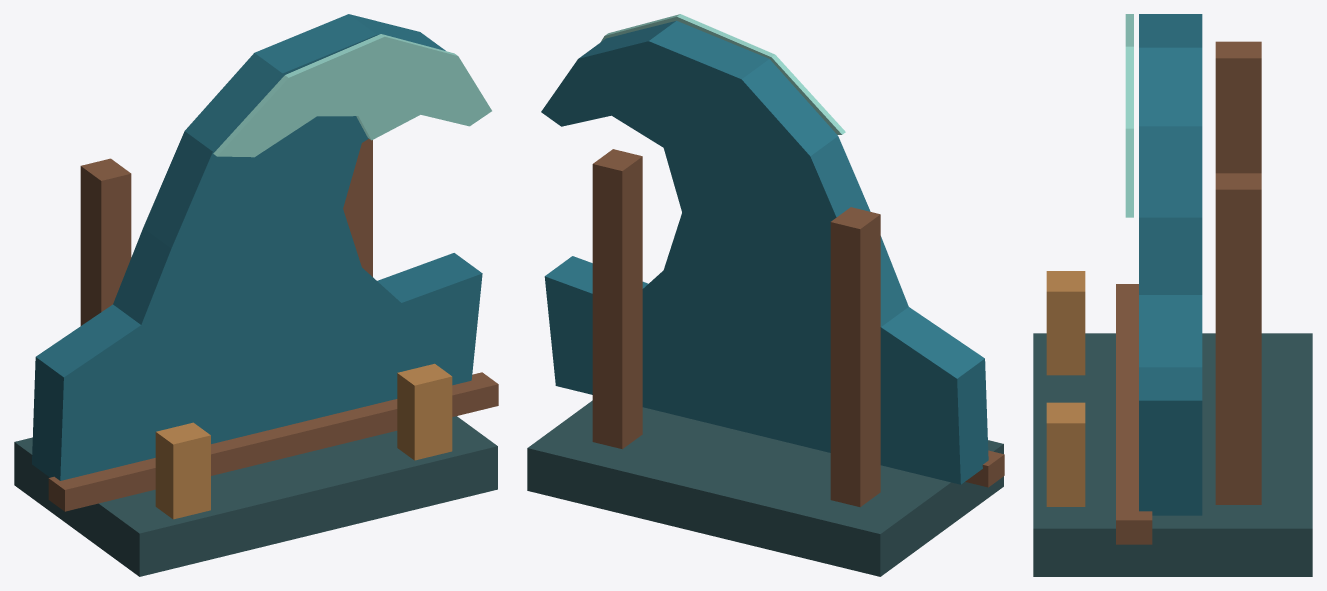
The model's file is stage-wave-model.obj.
The picture shows the model from 3 angles, left to right: view 1: azimuth 30°, elevation 25°; view 2: azimuth 150°, elevation 25°; view 3: azimuth 270°, elevation 25°; orthographic projection. The views are drawn at different scales.
Visible parts, largest first — view 1: StageWave; view 2: StageWave; view 3: StageWave.
Boxes of the visible parts, x1=… form: StageWave: x1=14, y1=14, x2=498, y2=576; StageWave: x1=527, y1=14, x2=1004, y2=576; StageWave: x1=1033, y1=14, x2=1312, y2=576.
Bounding box in the file's own units: 2.3 × 2.23 × 1.15.
